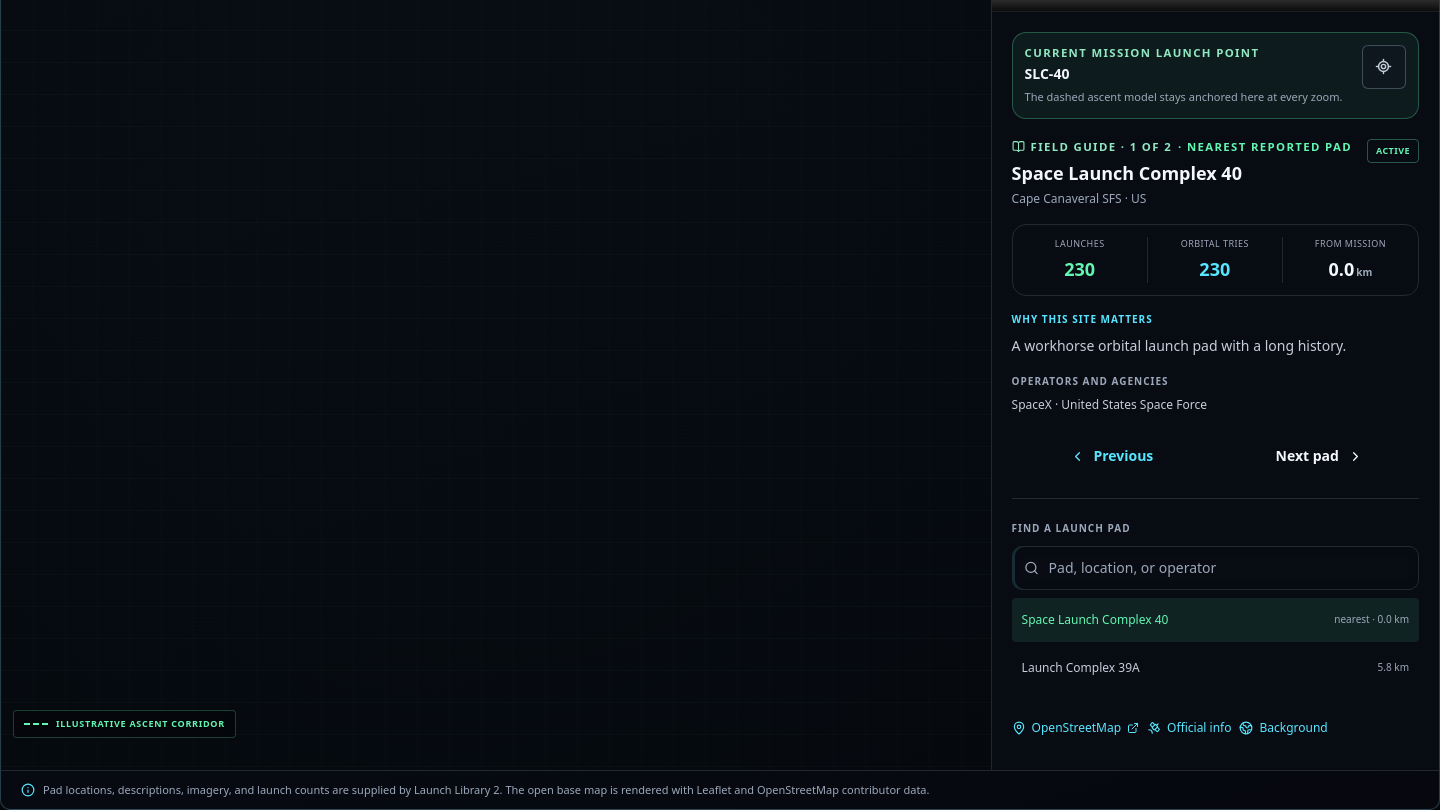
Test case: MissionTrajectory › finds pads by operator and reports an honest empty search state
(page scrolled)
Expected: the heading "Space Launch Complex 40" is shown, 1012,161 -> 1242,185
Type "NASA" into the search field labelled "Find a launch pad" at (1215, 568), box 1012,546 -> 1419,590
(page scrolled)
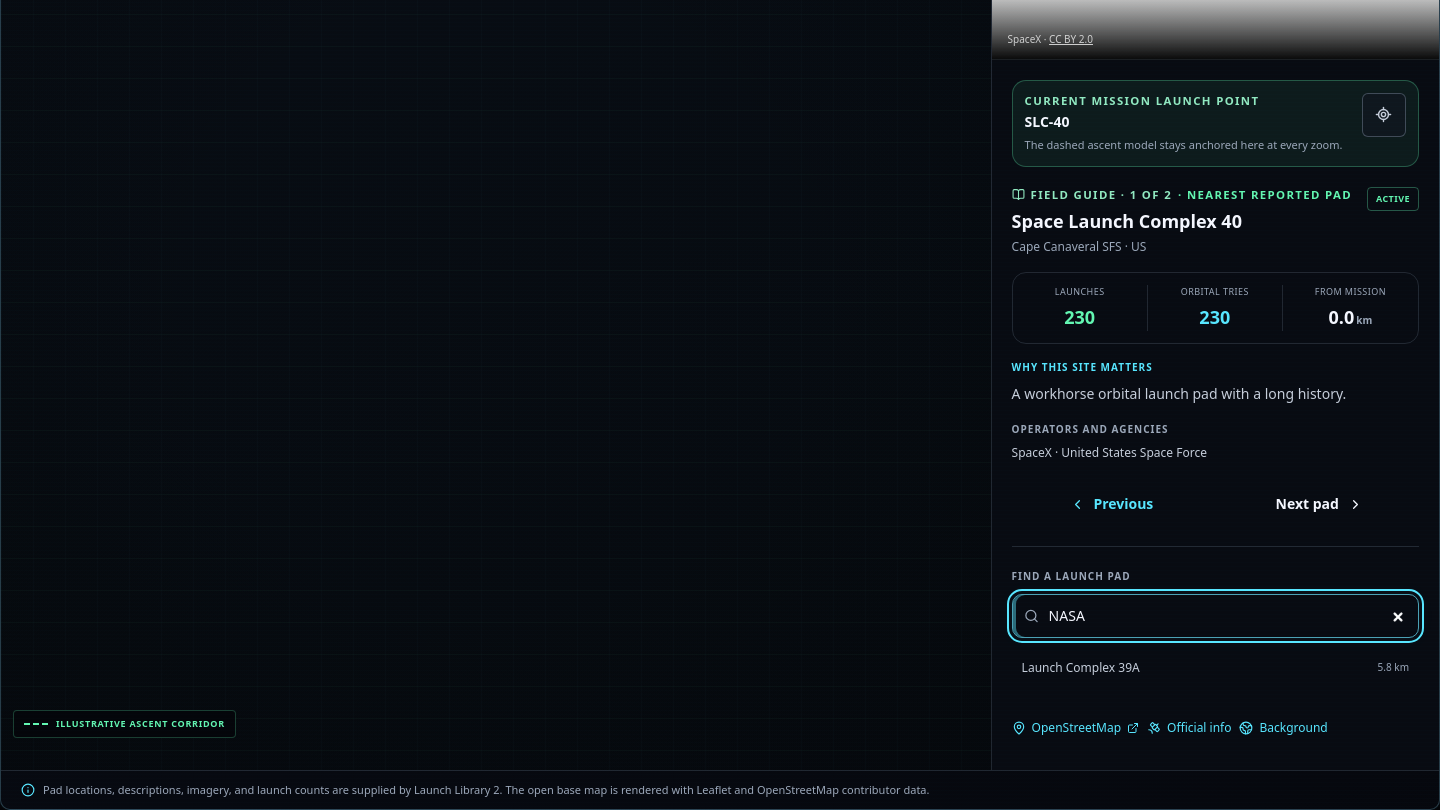
Expected: the button "Launch Complex 39A 5.8 km" is shown, 1012,646 -> 1419,690
Clear the search field labelled "Find a launch pad" at (1215, 616), box 1012,594 -> 1419,638
(page scrolled)
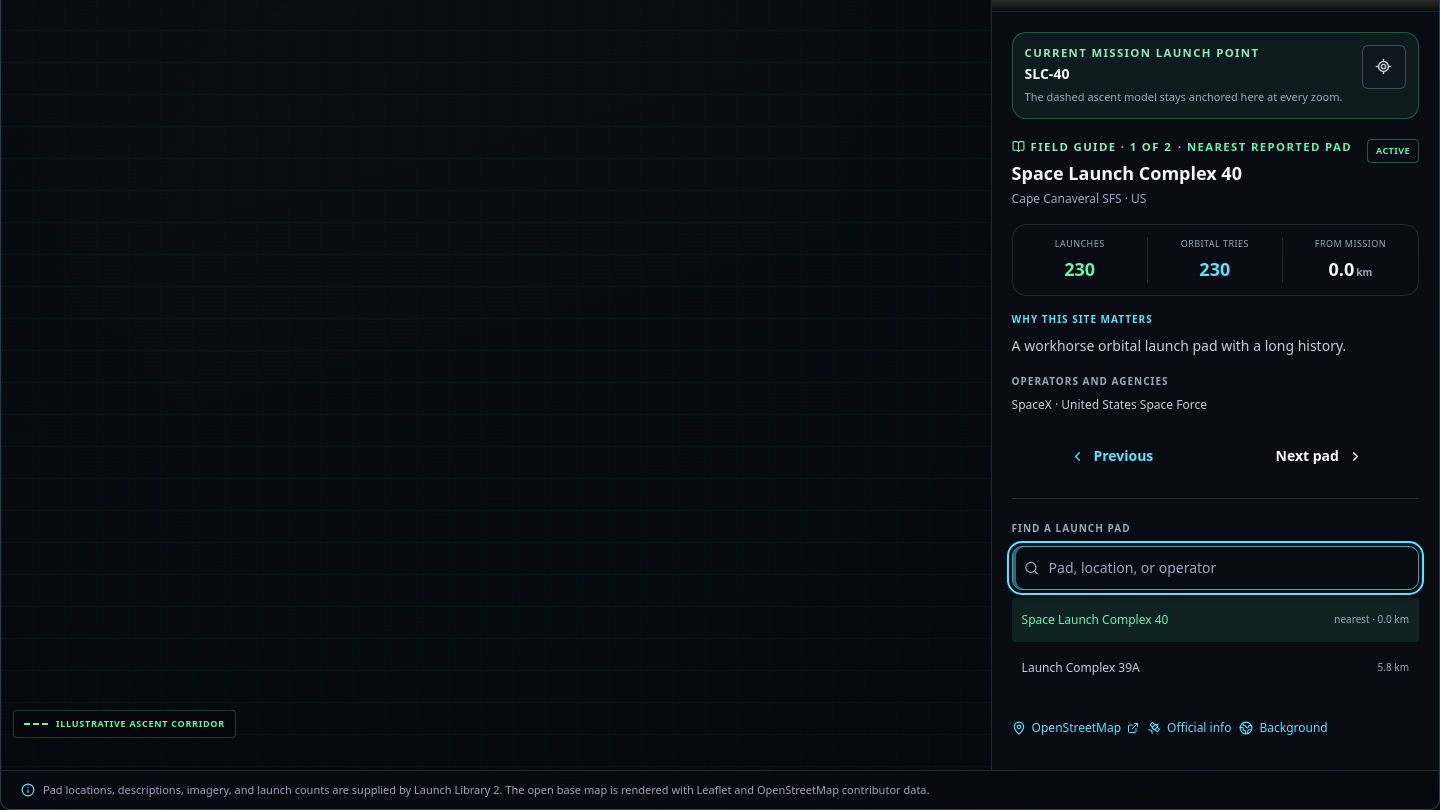
Type "No such facility" into the search field labelled "Find a launch pad" at (1215, 568), box 1012,546 -> 1419,590
(page scrolled)
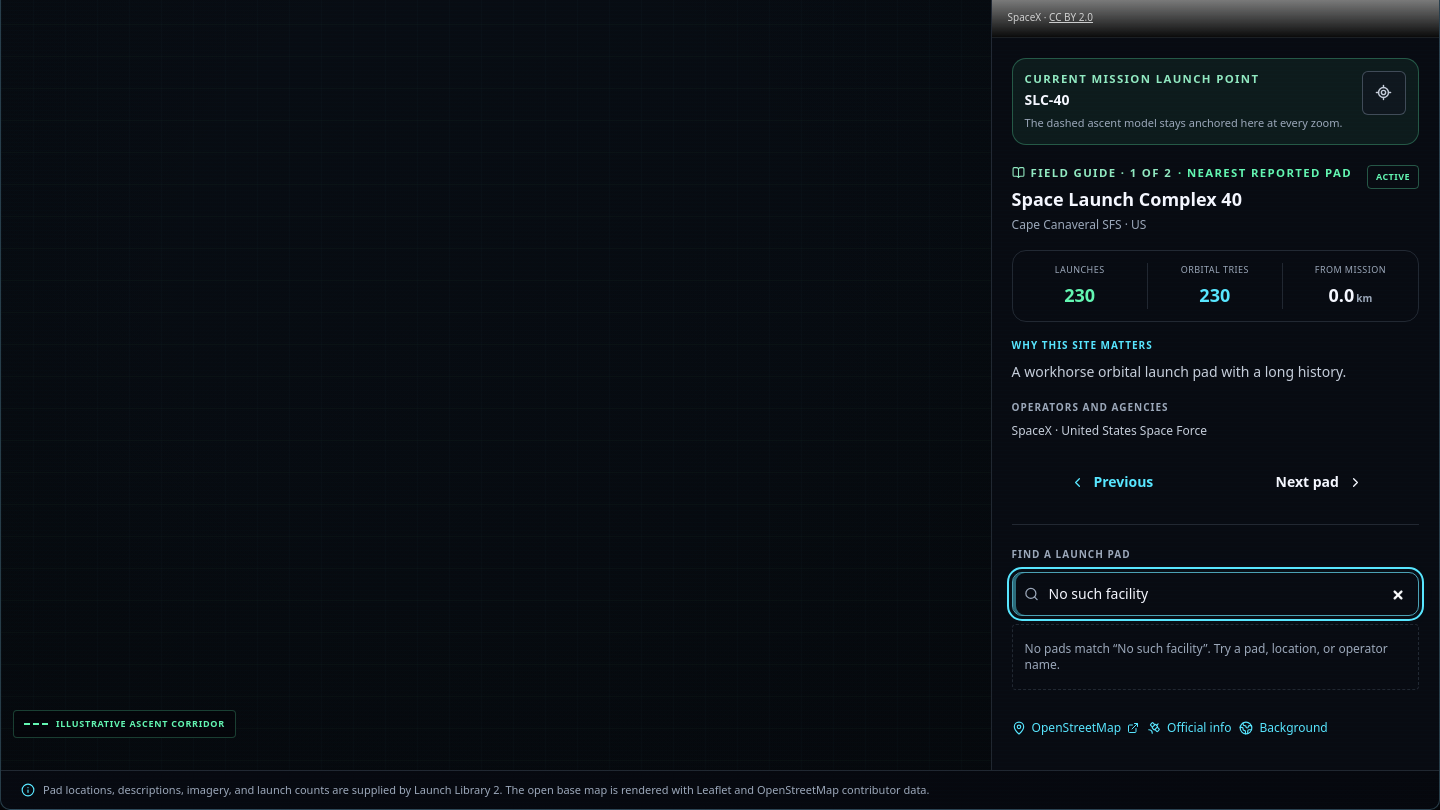
Expected: the message shows "No pads match", 1025,640 -> 1117,657
